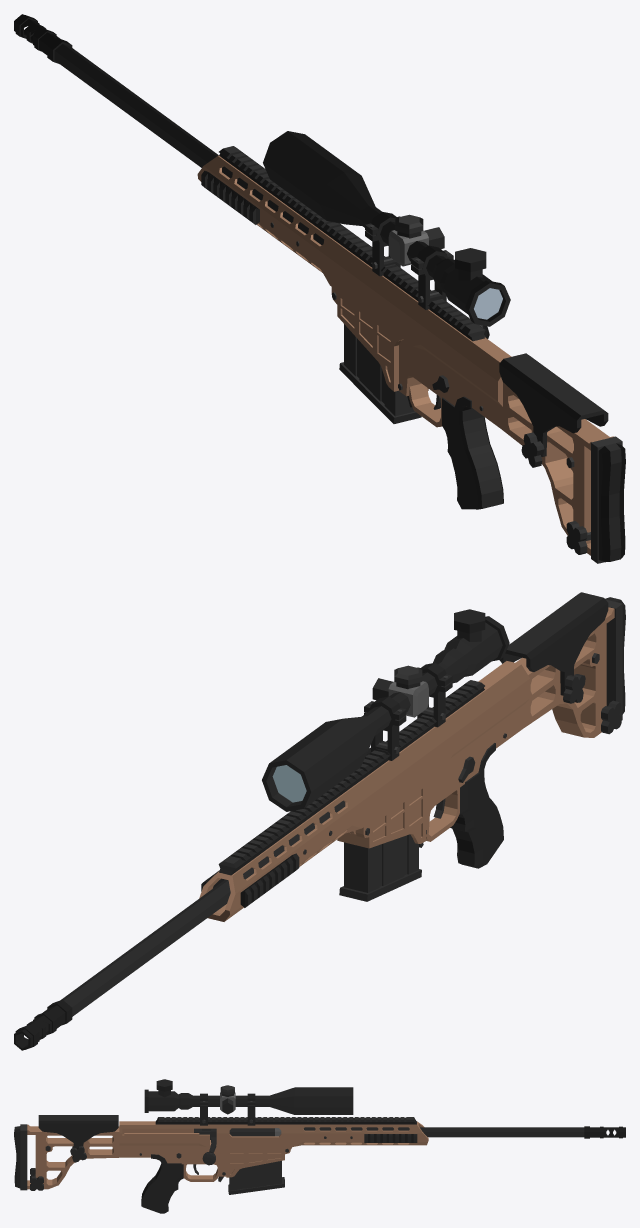
Rendered from gun_sniper_swift.glb.
3 renders of one model, top to bottom at view 1: azimuth 30°, elevation 25°; view 2: azimuth 150°, elevation 25°; view 3: azimuth 270°, elevation 25°, orthographic. The views are drawn at different scales.
Parts seen in each view (by area): view 1: Object_27_baked, Object_26_baked, Object_25_baked, Object_29_baked, Object_28_baked, Object_21_baked, Object_30_baked; view 2: Object_27_baked, Object_25_baked, Object_26_baked, Object_29_baked, Object_28_baked, Object_24_baked, Object_21_baked, Object_30_baked; view 3: Object_27_baked, Object_25_baked, Object_26_baked, Object_29_baked, Object_28_baked, Object_21_baked.
Part boxes in pixels (bbox=[...]): Object_27_baked: bbox=[197, 155, 613, 555]; Object_26_baked: bbox=[365, 212, 625, 562]; Object_25_baked: bbox=[201, 131, 587, 554]; Object_29_baked: bbox=[54, 44, 622, 563]; Object_28_baked: bbox=[14, 14, 486, 341]; Object_21_baked: bbox=[270, 214, 590, 540]; Object_30_baked: bbox=[388, 230, 428, 266]; Object_27_baked: bbox=[199, 607, 614, 921]; Object_25_baked: bbox=[201, 622, 621, 907]; Object_26_baked: bbox=[364, 592, 625, 868]; Object_29_baked: bbox=[61, 599, 622, 1016]; Object_28_baked: bbox=[14, 609, 485, 1050]; Object_24_baked: bbox=[272, 765, 306, 802]; Object_21_baked: bbox=[303, 653, 599, 854]; Object_30_baked: bbox=[388, 681, 428, 717]; Object_27_baked: bbox=[27, 1121, 428, 1189]; Object_25_baked: bbox=[30, 1087, 417, 1194]; Object_26_baked: bbox=[14, 1089, 255, 1213]; Object_29_baked: bbox=[20, 1124, 584, 1190]; Object_28_baked: bbox=[155, 1079, 625, 1142]; Object_21_baked: bbox=[34, 1085, 352, 1176].
Size of the model in its own units: 0.1041 by 0.2902 by 1.25.
